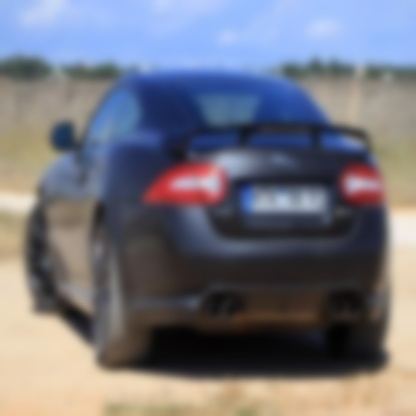Vehicle: (26, 68, 395, 372)
